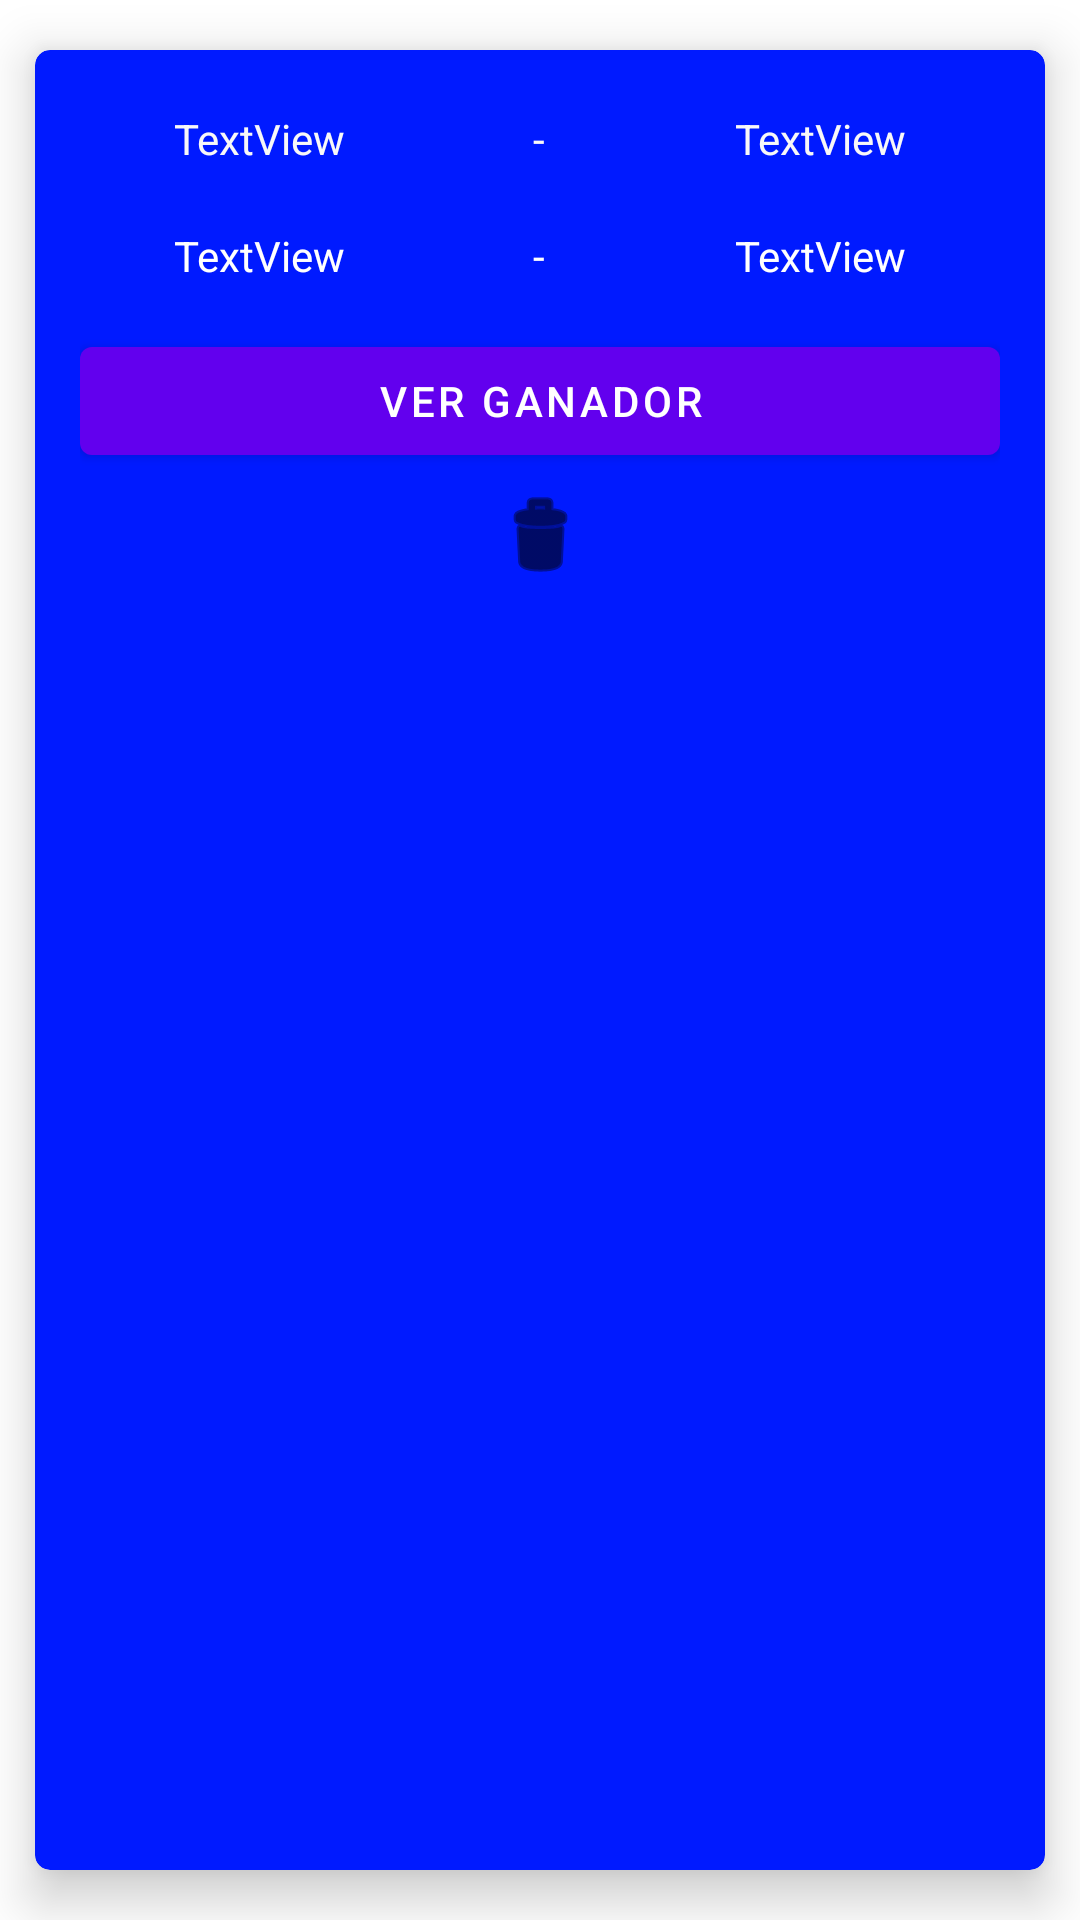

Named icons in this screenshot (1080 x 1920) and their bounding boxes, (x1, y1, x2, y2):
delete: (513, 497, 568, 572)
